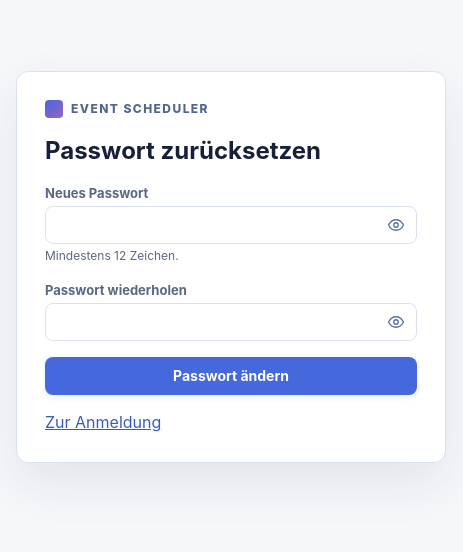
Scenario: explains an expired reset link and offers a new one
In the password field labelled "Neues Passwort": (231, 225) [45,206,417,244], type "Newpassword12345!"
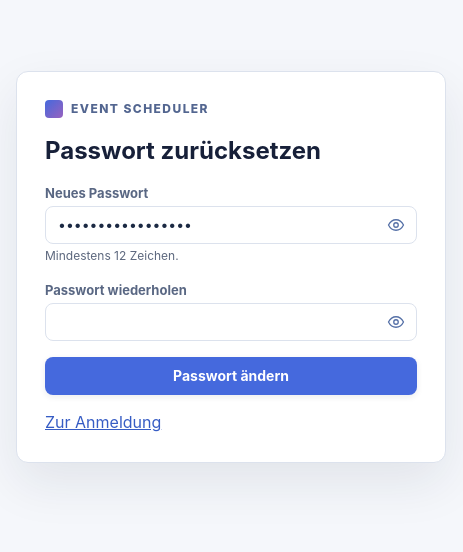
In the password field labelled "Passwort wiederholen": (231, 322) [45,303,417,341], type "Newpassword12345!"
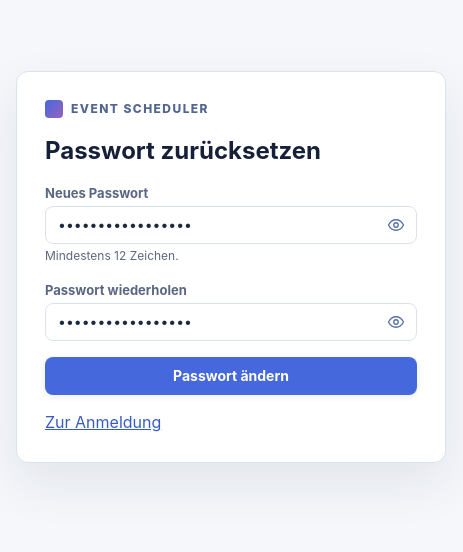
Submit the form labelled "Neues Passwort", box [45,184,417,395]
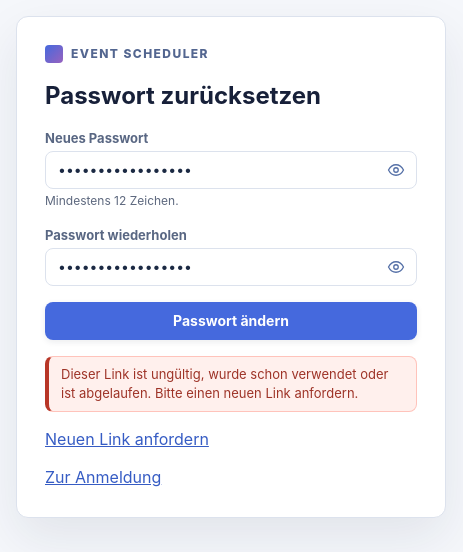
Expected: the message shows "Bitte einen neuen Link anfordern.", [61,366,388,401]
